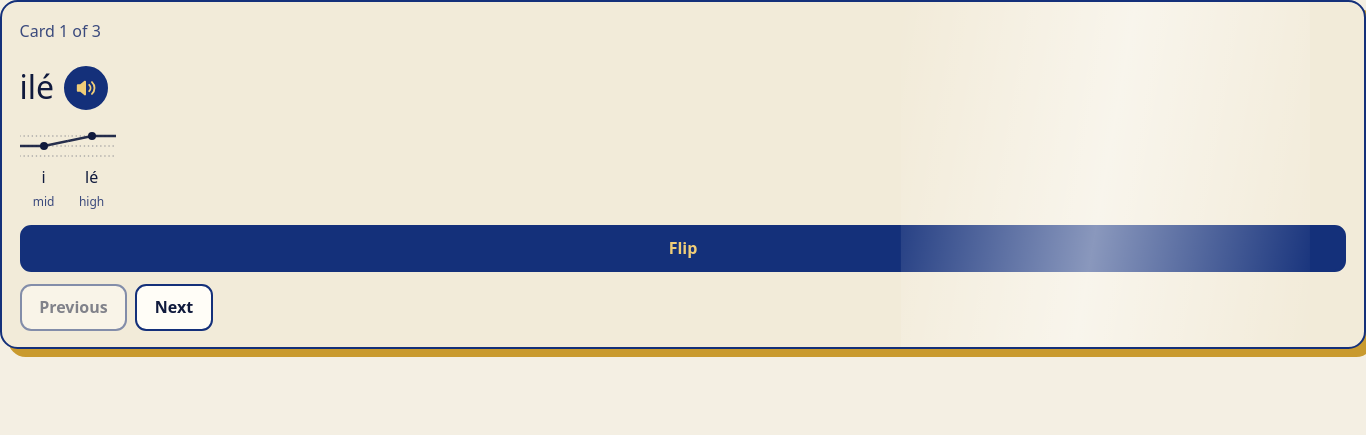
Scenario: Flashcards › Flip reveals gloss, part of speech, sentence and translation
Click the button "Flip" at (683, 248), box [20,225,1346,272]
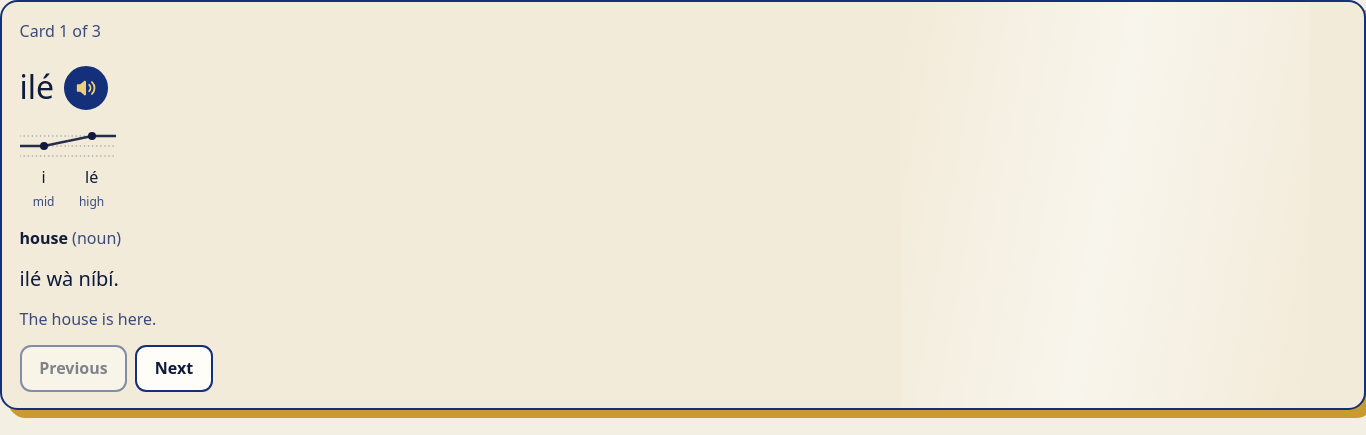
Result: the element with test id "flashcard-back" shows "house" at [20,227,68,249]
Result: the element with test id "flashcard-back" shows "(noun)" at [77,227,116,249]
Result: the element with test id "flashcard-back" shows "ilé wà níbí." at [20,265,119,292]
